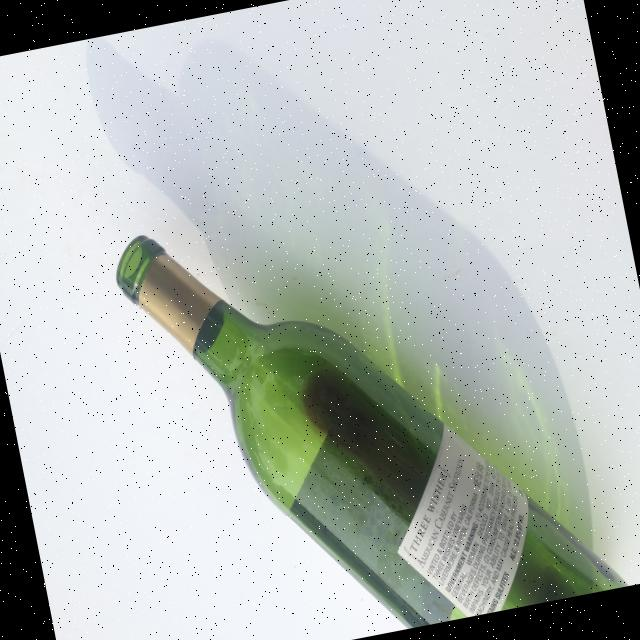glass: (108, 154, 628, 640)
